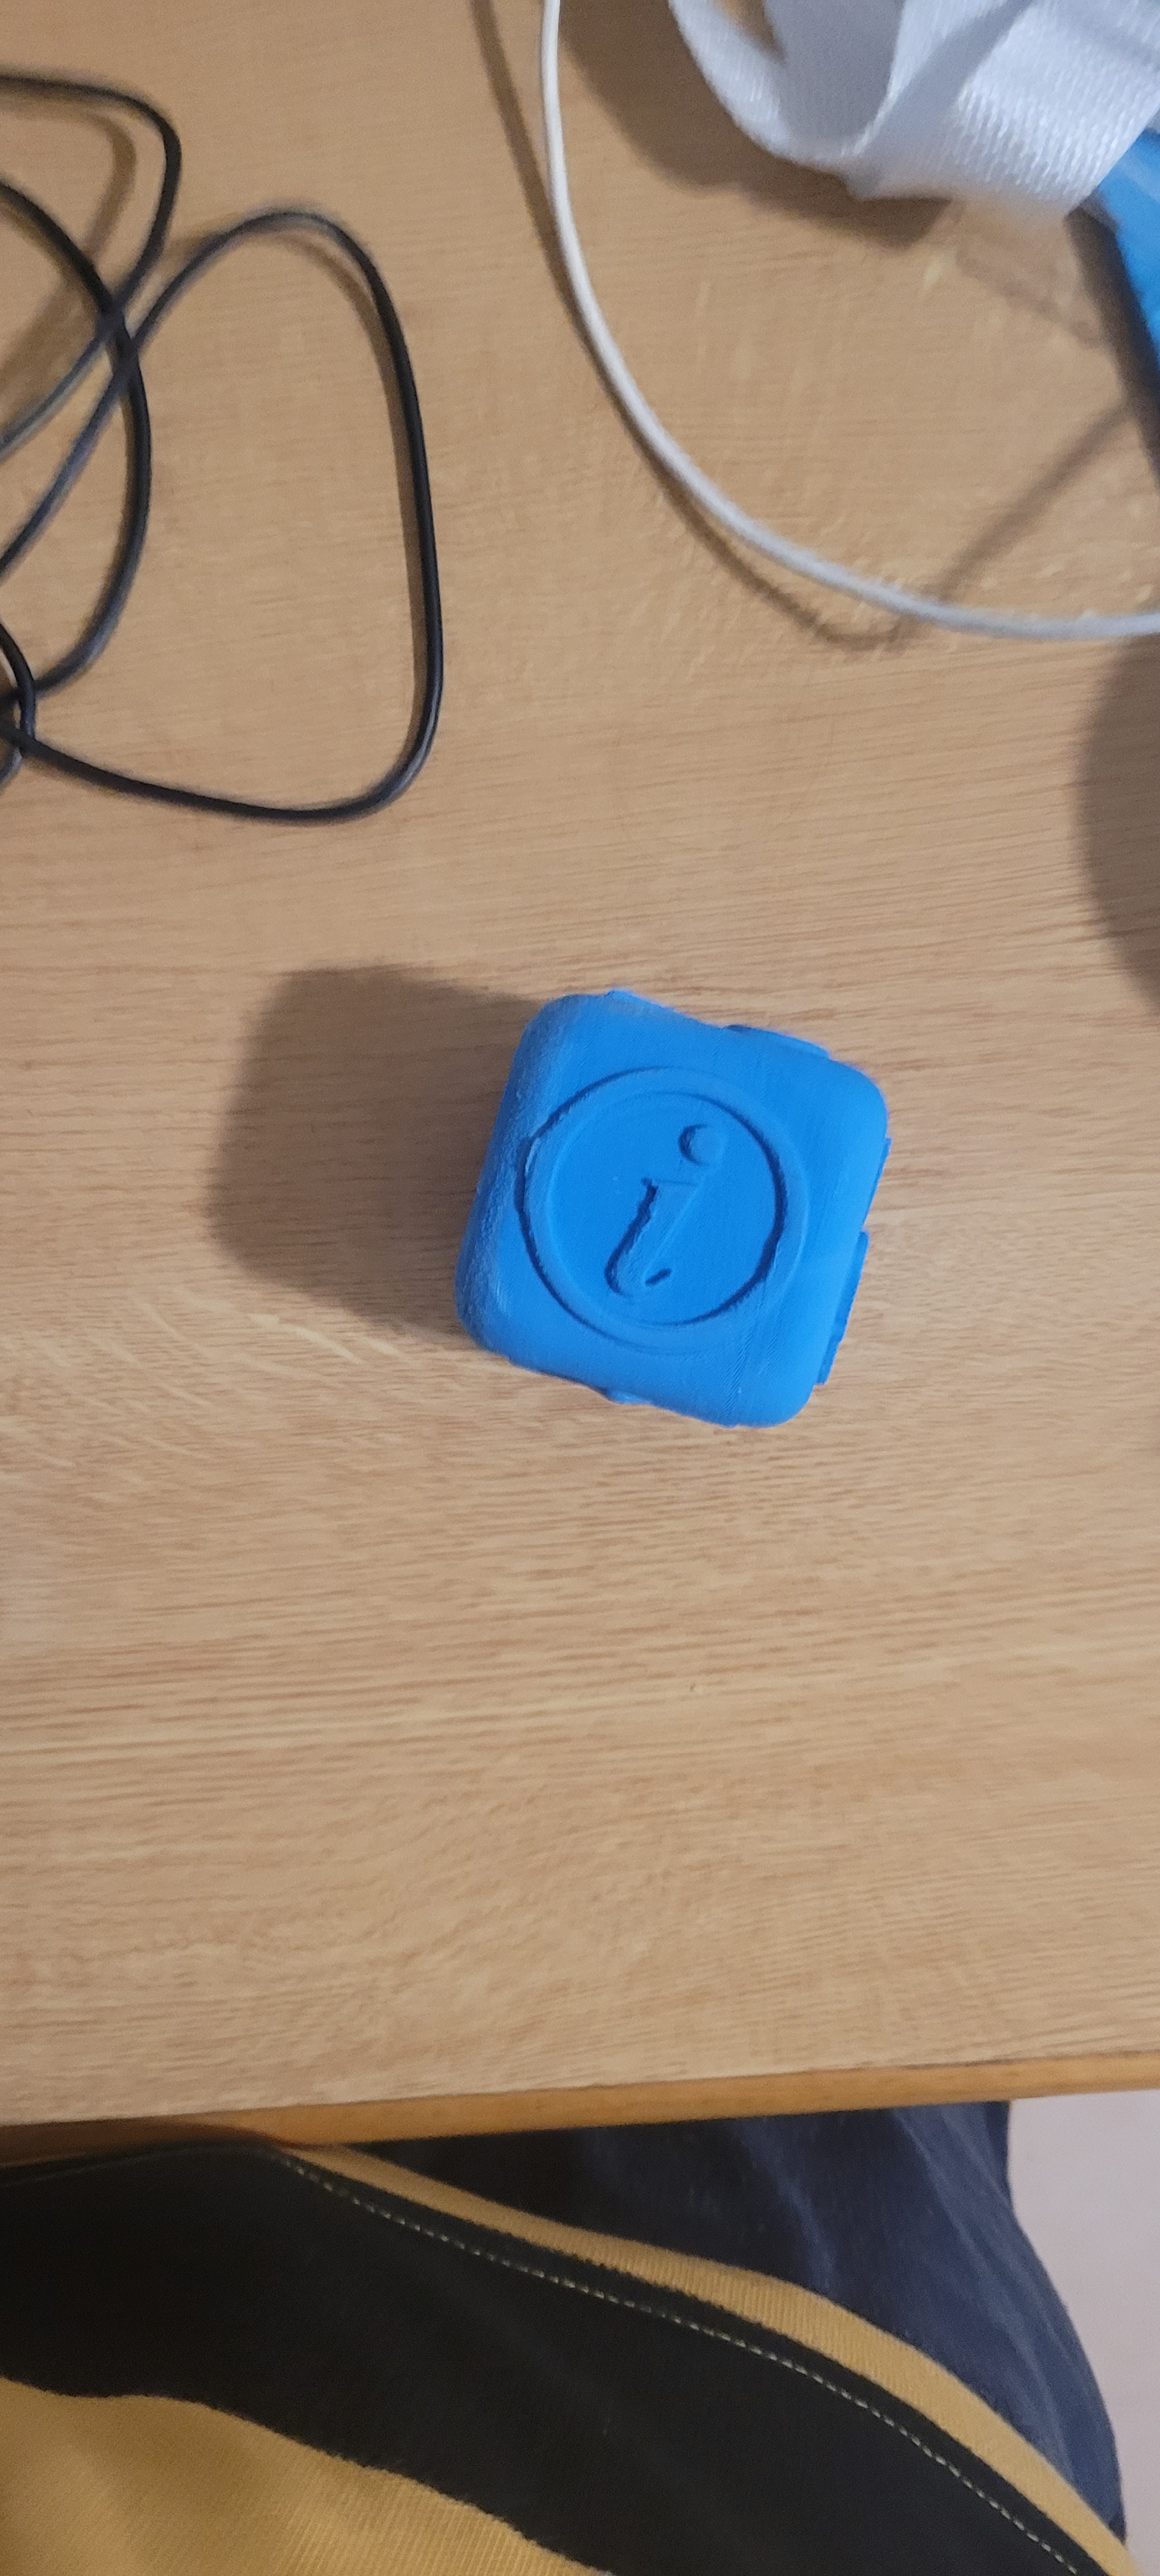Info: (532, 1010, 841, 1373)
